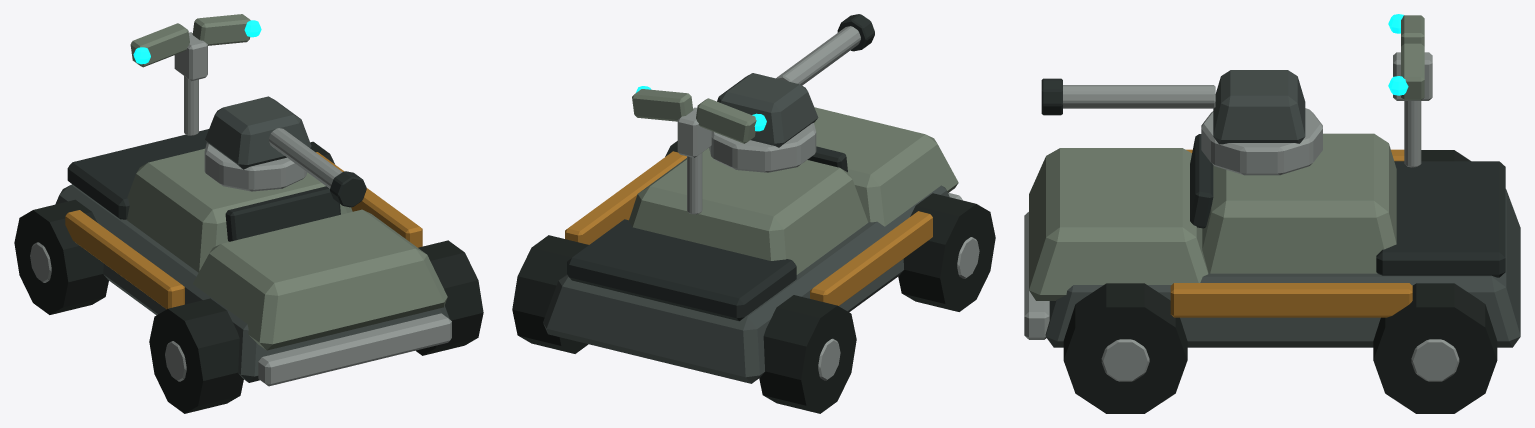
The model's file is ff_sct_01_v1.glb.
3 views of the same model, side by side, from view 1: azimuth 30°, elevation 25°; view 2: azimuth 150°, elevation 25°; view 3: azimuth 270°, elevation 25° (orthographic). The views are drawn at different scales.
Visible parts, largest first — view 1: FF_SCT_01_M_ArmorPanel_runtime, FF_SCT_01_M_TrackRubber_runtime, FF_SCT_01_M_Recess_runtime, FF_SCT_01_M_Steel_runtime, FF_SCT_01_M_Gunmetal_runtime, FF_SCT_01_M_AmberArmor_runtime, turret_yaw_M_Gunmetal_runtime, turret_yaw_M_Steel_runtime, radar_yaw_M_ArmorPanel_runtime, radar_yaw_M_Steel_runtime, turret_yaw_M_Recess_runtime, powered_scout_radar_M_CyanSignal_runtime; view 2: FF_SCT_01_M_ArmorPanel_runtime, FF_SCT_01_M_TrackRubber_runtime, FF_SCT_01_M_Gunmetal_runtime, FF_SCT_01_M_Recess_runtime, FF_SCT_01_M_AmberArmor_runtime, turret_yaw_M_Steel_runtime, turret_yaw_M_Gunmetal_runtime, radar_yaw_M_ArmorPanel_runtime, radar_yaw_M_Steel_runtime, FF_SCT_01_M_Steel_runtime, turret_yaw_M_Recess_runtime; view 3: FF_SCT_01_M_ArmorPanel_runtime, FF_SCT_01_M_TrackRubber_runtime, FF_SCT_01_M_Recess_runtime, FF_SCT_01_M_Gunmetal_runtime, FF_SCT_01_M_AmberArmor_runtime, turret_yaw_M_Steel_runtime, turret_yaw_M_Gunmetal_runtime, FF_SCT_01_M_Steel_runtime, radar_yaw_M_ArmorPanel_runtime, radar_yaw_M_Steel_runtime, turret_yaw_M_Recess_runtime, powered_scout_radar_M_CyanSignal_runtime.
Part boxes in pixels (box(x1,y1,x2,y2)): FF_SCT_01_M_ArmorPanel_runtime: box(126, 148, 447, 350); FF_SCT_01_M_TrackRubber_runtime: box(14, 141, 483, 413); FF_SCT_01_M_Recess_runtime: box(67, 129, 340, 241); FF_SCT_01_M_Steel_runtime: box(30, 242, 451, 386); FF_SCT_01_M_Gunmetal_runtime: box(55, 184, 449, 382); FF_SCT_01_M_AmberArmor_runtime: box(65, 152, 422, 309); turret_yaw_M_Gunmetal_runtime: box(205, 96, 311, 169); turret_yaw_M_Steel_runtime: box(204, 128, 342, 191); radar_yaw_M_ArmorPanel_runtime: box(130, 14, 250, 67); radar_yaw_M_Steel_runtime: box(174, 32, 207, 135); turret_yaw_M_Recess_runtime: box(330, 171, 366, 207); powered_scout_radar_M_CyanSignal_runtime: box(133, 20, 261, 64); FF_SCT_01_M_ArmorPanel_runtime: box(629, 107, 958, 274); FF_SCT_01_M_TrackRubber_runtime: box(512, 141, 995, 413); FF_SCT_01_M_Gunmetal_runtime: box(543, 185, 949, 383); FF_SCT_01_M_Recess_runtime: box(567, 146, 847, 321); FF_SCT_01_M_AmberArmor_runtime: box(565, 151, 932, 305); turret_yaw_M_Steel_runtime: box(709, 26, 860, 172); turret_yaw_M_Gunmetal_runtime: box(717, 73, 818, 147); radar_yaw_M_ArmorPanel_runtime: box(632, 89, 756, 143); radar_yaw_M_Steel_runtime: box(677, 107, 711, 214); FF_SCT_01_M_Steel_runtime: box(818, 193, 979, 380); turret_yaw_M_Recess_runtime: box(837, 14, 874, 51); FF_SCT_01_M_ArmorPanel_runtime: box(1029, 133, 1396, 300); FF_SCT_01_M_TrackRubber_runtime: box(1063, 150, 1497, 413); FF_SCT_01_M_Recess_runtime: box(1190, 134, 1505, 277); FF_SCT_01_M_Gunmetal_runtime: box(1045, 189, 1520, 347); FF_SCT_01_M_AmberArmor_runtime: box(1170, 149, 1412, 317); turret_yaw_M_Steel_runtime: box(1063, 85, 1322, 175); turret_yaw_M_Gunmetal_runtime: box(1213, 70, 1305, 144); FF_SCT_01_M_Steel_runtime: box(1024, 212, 1459, 381); radar_yaw_M_ArmorPanel_runtime: box(1401, 15, 1424, 100); radar_yaw_M_Steel_runtime: box(1393, 52, 1432, 167); turret_yaw_M_Recess_runtime: box(1041, 78, 1062, 115); powered_scout_radar_M_CyanSignal_runtime: box(1388, 14, 1408, 95).
Bounding box in the file's own units: 2.67 × 2.33 × 3.53.
